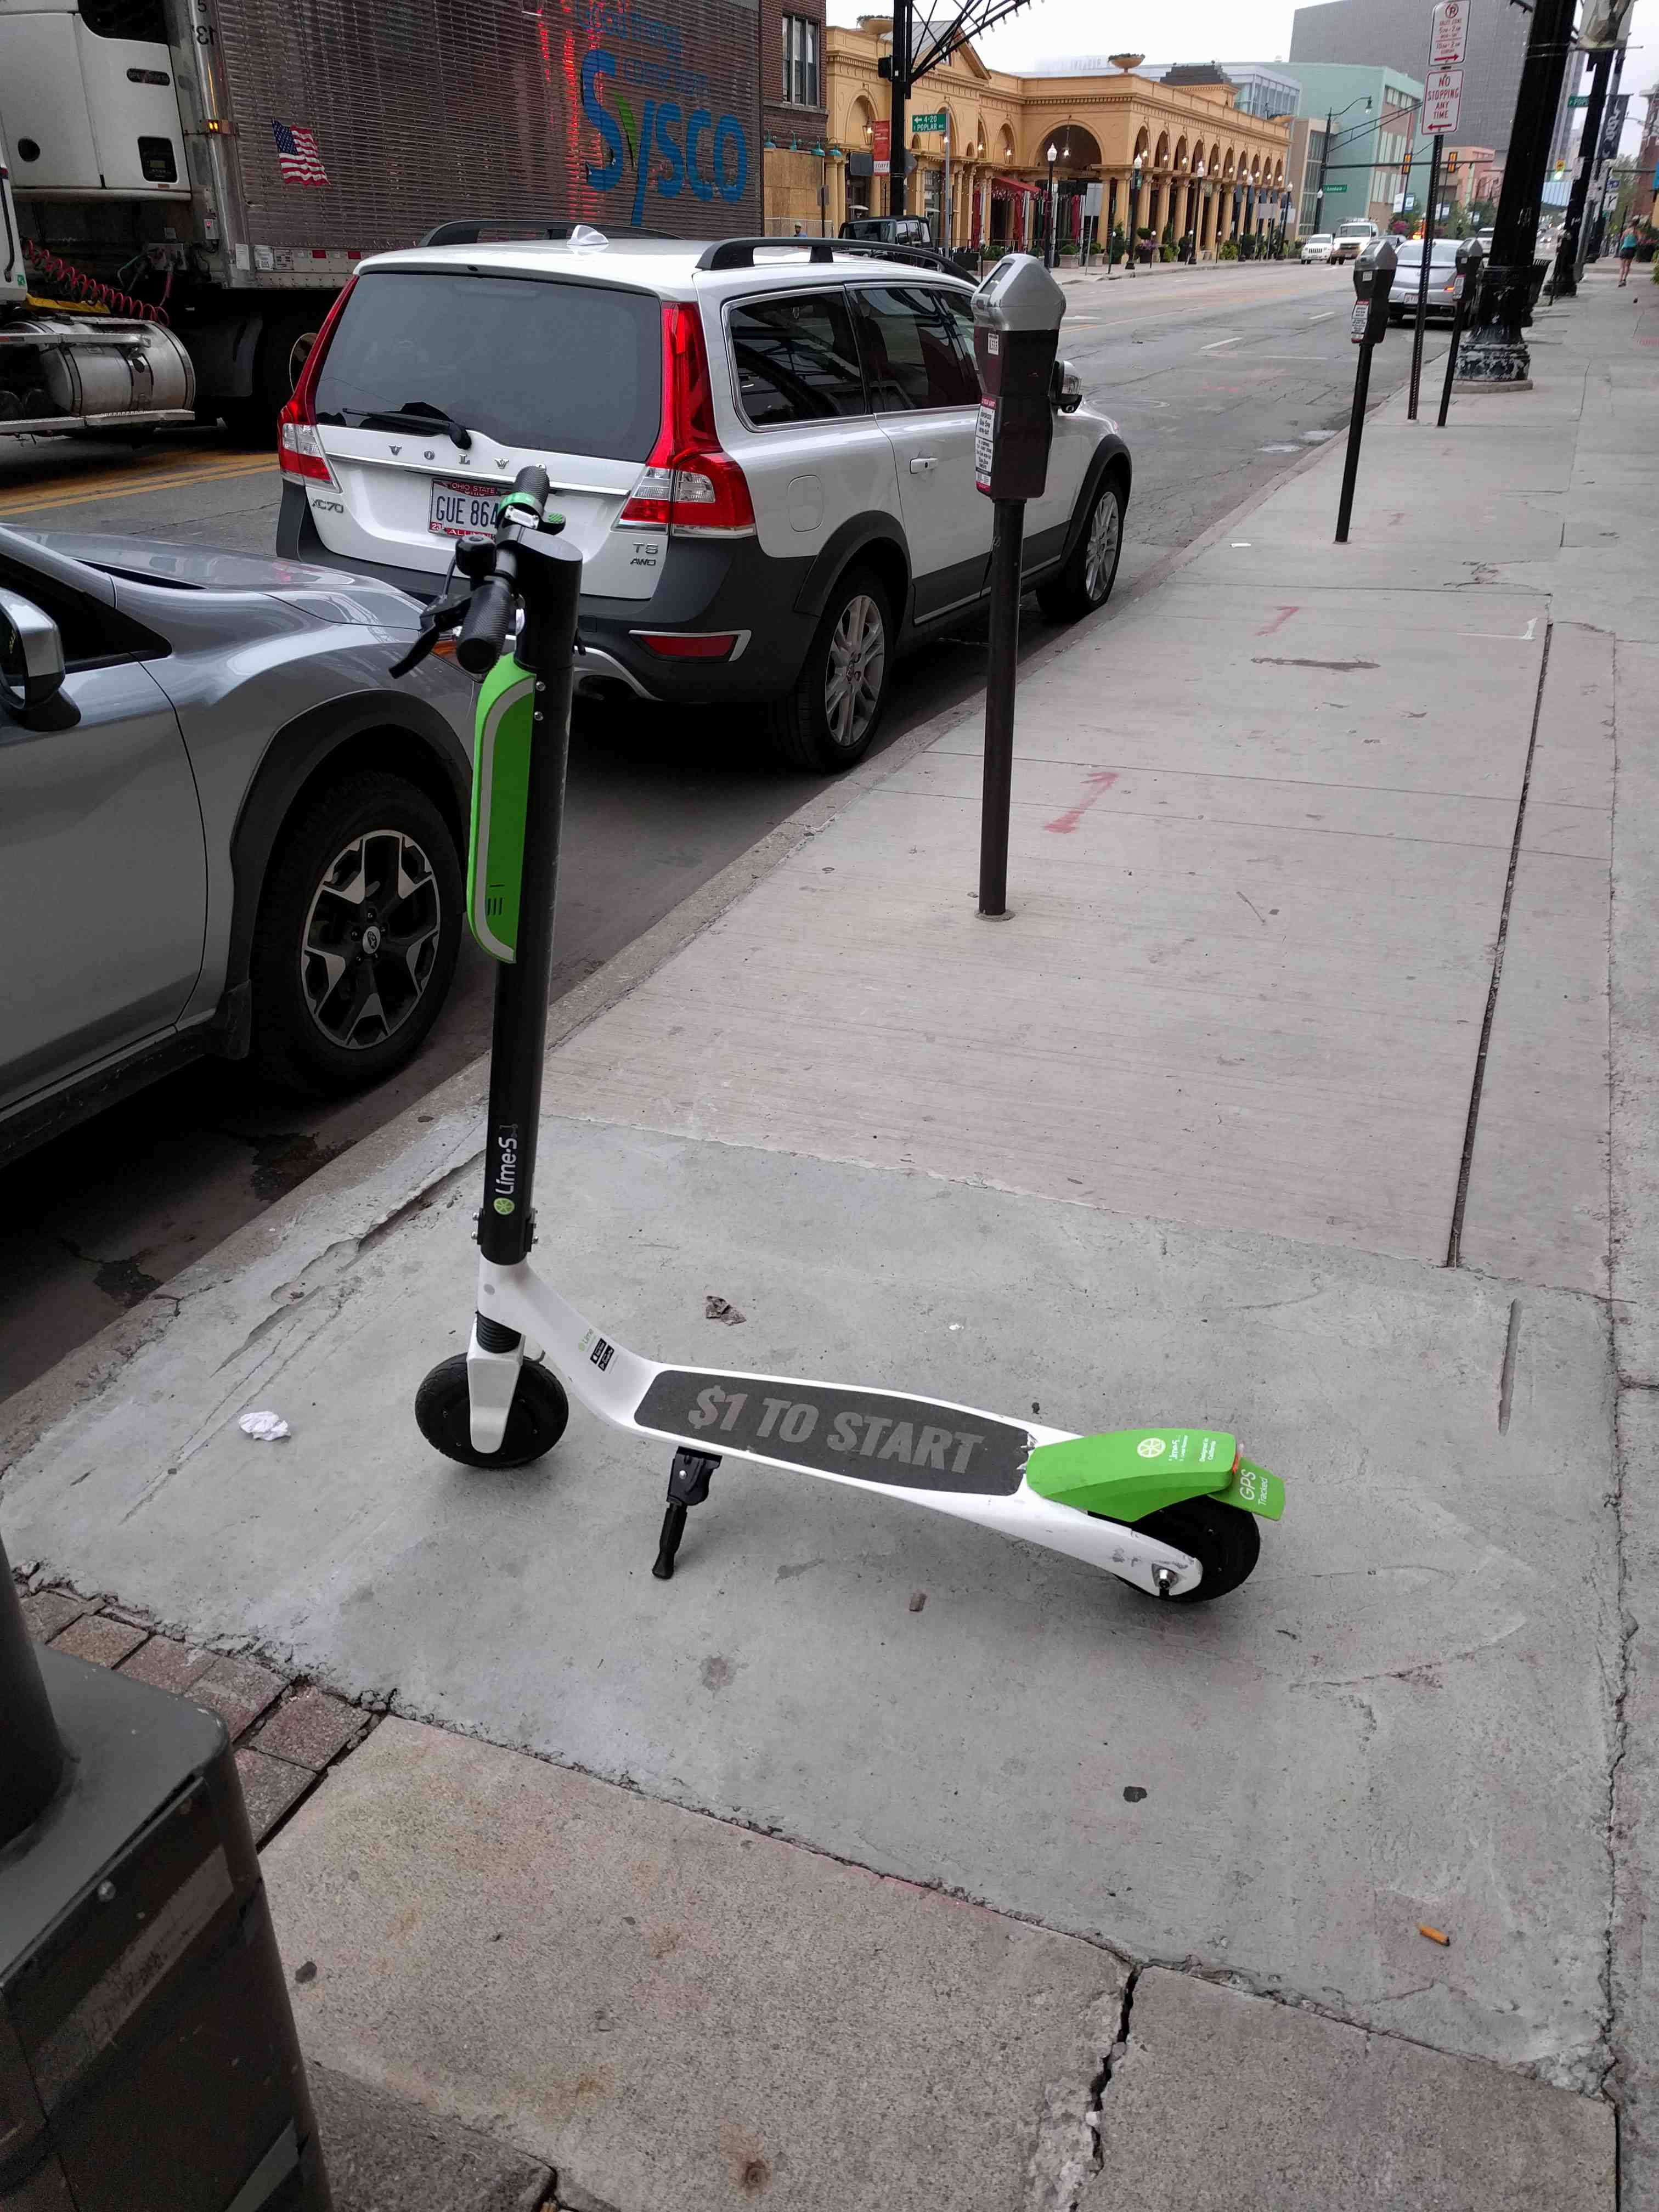scooter: (328, 437, 1290, 1623)
